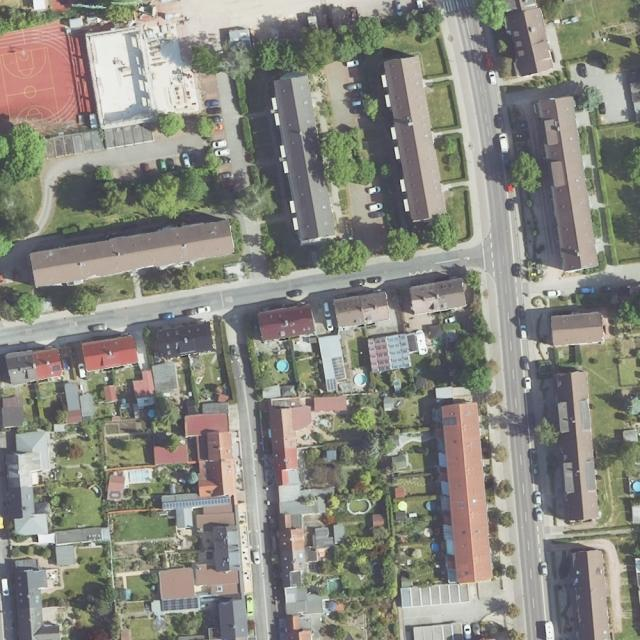PV: (369, 335, 411, 373), (162, 498, 231, 508), (161, 597, 199, 611), (326, 379, 337, 391)
ST: (444, 417, 457, 426), (52, 365, 60, 372)
